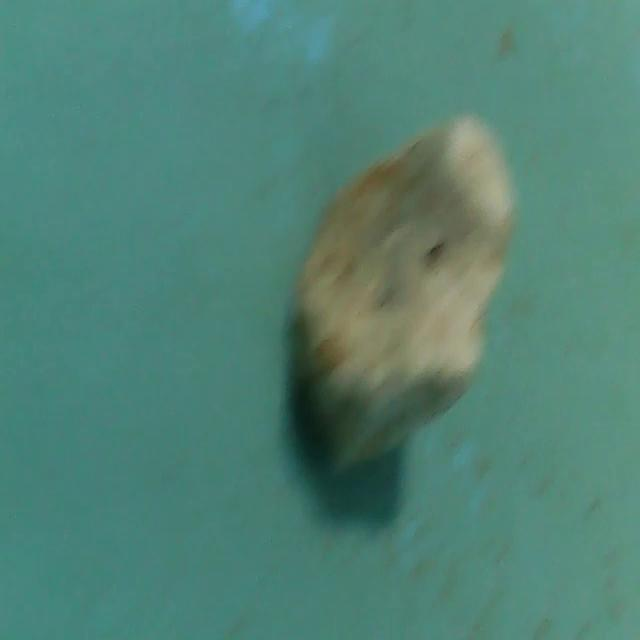rock: (276, 105, 522, 478)
